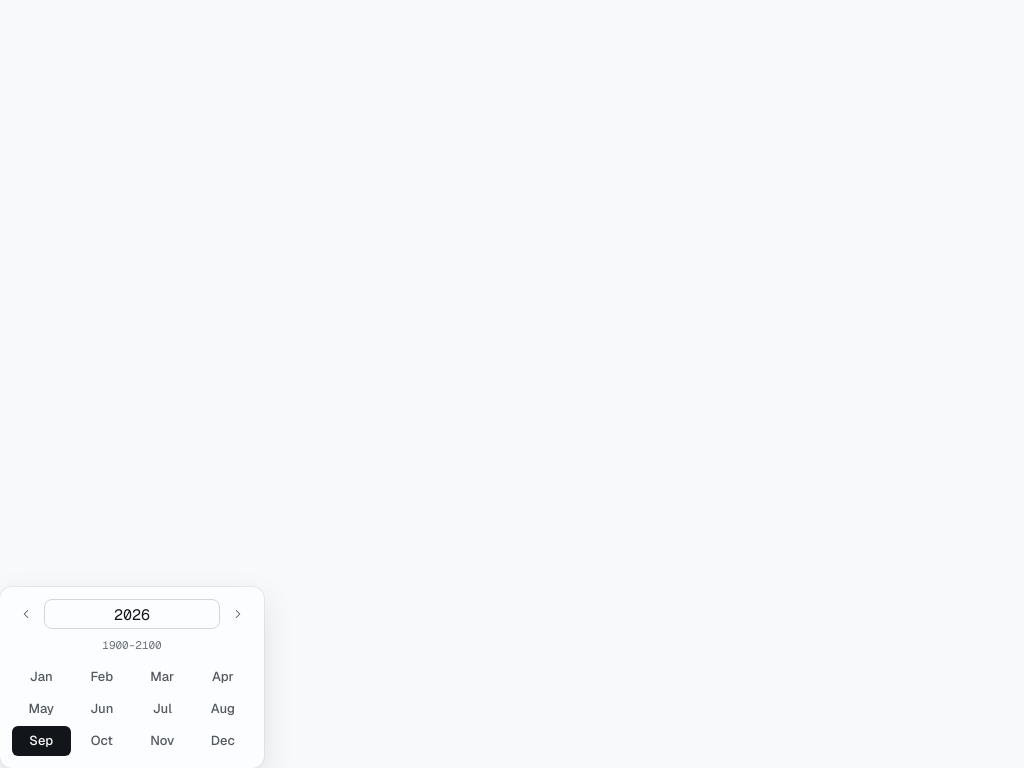
Scenario: CalendarJumpPicker (month mode) › month buttons are disabled while the year field is not a number
(page scrolled)
Clear the field named "Year". click: (132, 614)
box: [44,599,220,629]
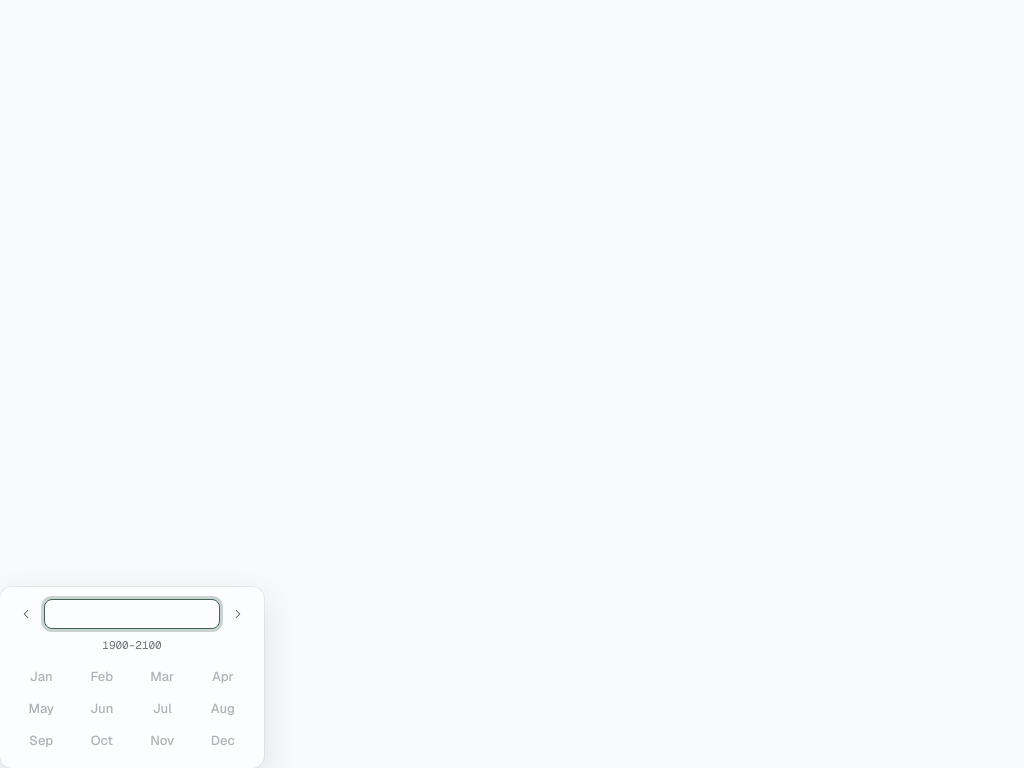
expect the button "Jan" is disabled: met, box [12,662,70,692]
